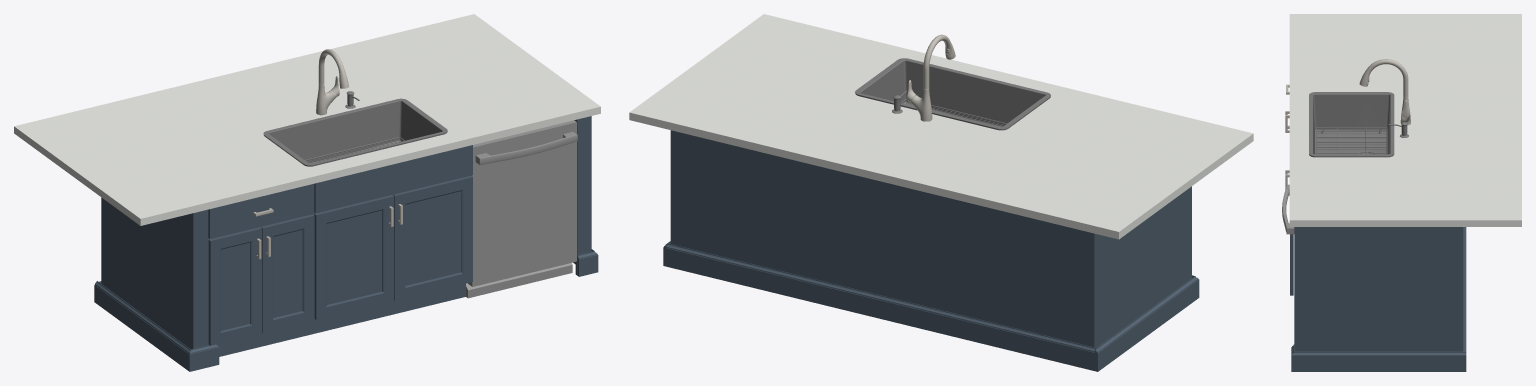
The model's file is 117 KITCHEN ISLAND WRAPPED V2.glb.
The picture shows the model from 3 angles, left to right: view 1: azimuth 30°, elevation 25°; view 2: azimuth 150°, elevation 25°; view 3: azimuth 270°, elevation 25°; orthographic projection. The views are drawn at different scales.
Parts seen in each view (by area): view 1: Component#1, SRB36-5, PDT715SYVFS-6, B24-4, Component#2, skpE5B6, TSC4-15, FBM-18, BEP3-R-7, BEP3-L-3, skp4136, FBM-17; view 2: Component#1, Component#3, FBM-16, Component#2, skpE5B6, FBM-18, skp4136; view 3: Component#1, Component#2, skpE5B6, FBM-17, skp4136, FBM-16, SRB36-5, PDT715SYVFS-6, Component#3.
Part boxes in pixels (<box>): Component#1: <box>14,14,600,225</box>; SRB36-5: <box>313,145,472,319</box>; PDT715SYVFS-6: <box>466,120,577,298</box>; B24-4: <box>207,184,314,345</box>; Component#2: <box>101,198,194,349</box>; skpE5B6: <box>263,98,447,166</box>; TSC4-15: <box>216,283,465,356</box>; FBM-18: <box>94,281,219,371</box>; BEP3-R-7: <box>573,116,590,275</box>; BEP3-L-3: <box>194,210,207,348</box>; skp4136: <box>316,49,348,115</box>; FBM-17: <box>577,249,598,276</box>; Component#1: <box>629,14,1253,239</box>; Component#3: <box>670,130,1094,347</box>; FBM-16: <box>666,243,1095,370</box>; Component#2: <box>1094,186,1191,347</box>; skpE5B6: <box>855,58,1050,130</box>; FBM-18: <box>1095,275,1199,371</box>; skp4136: <box>907,34,955,121</box>; Component#1: <box>1289,14,1521,226</box>; Component#2: <box>1294,227,1462,351</box>; skpE5B6: <box>1309,92,1394,157</box>; FBM-17: <box>1291,344,1466,371</box>; skp4136: <box>1359,59,1410,125</box>; FBM-16: <box>1463,227,1466,351</box>; SRB36-5: <box>1285,170,1293,295</box>; PDT715SYVFS-6: <box>1282,184,1294,234</box>; Component#3: <box>1462,227,1463,351</box>.
Bounding box in the file's own units: 2.65 × 1.3 × 1.3.
Materials: 5 (1 with a texture image).
